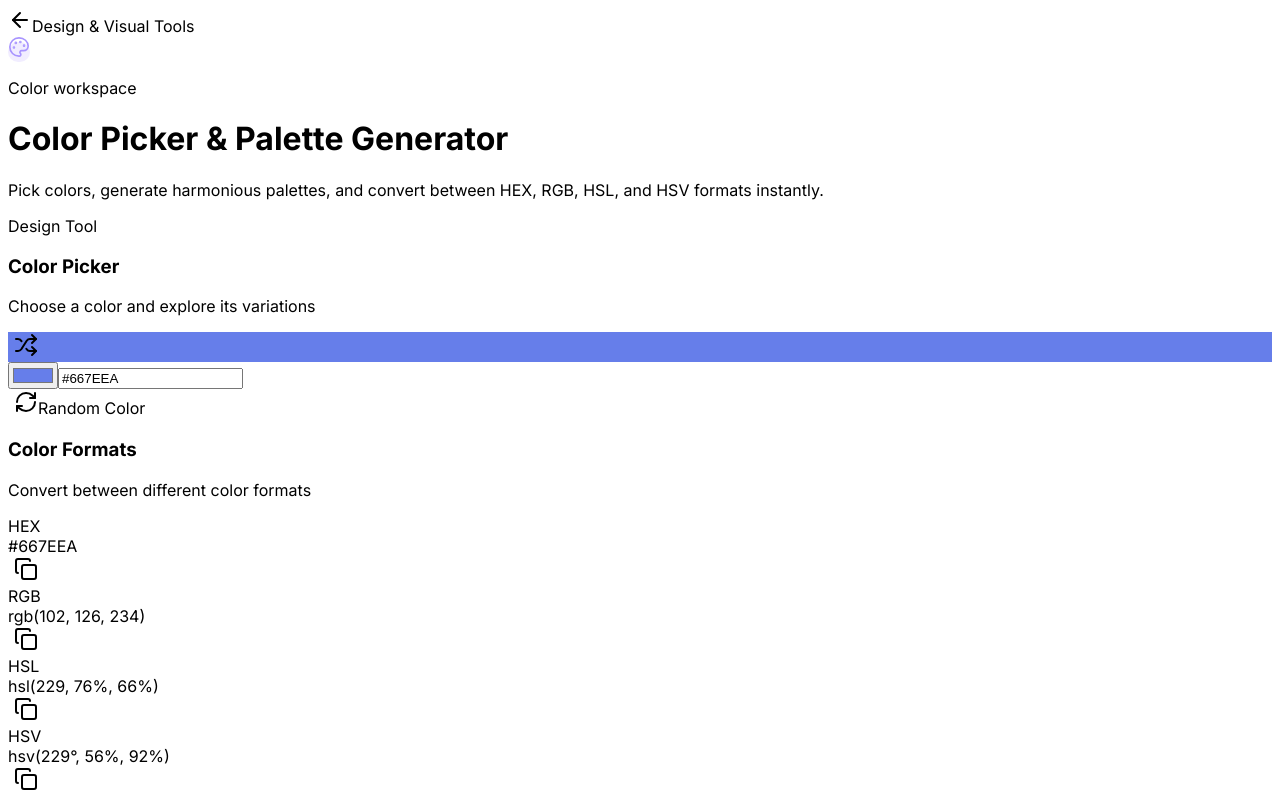
Test: Color Picker - Random Color Tests › should generate random color when button is clicked
// Click random button
Click the button "Random Color": (80, 404) left=8, top=389, right=151, bottom=419
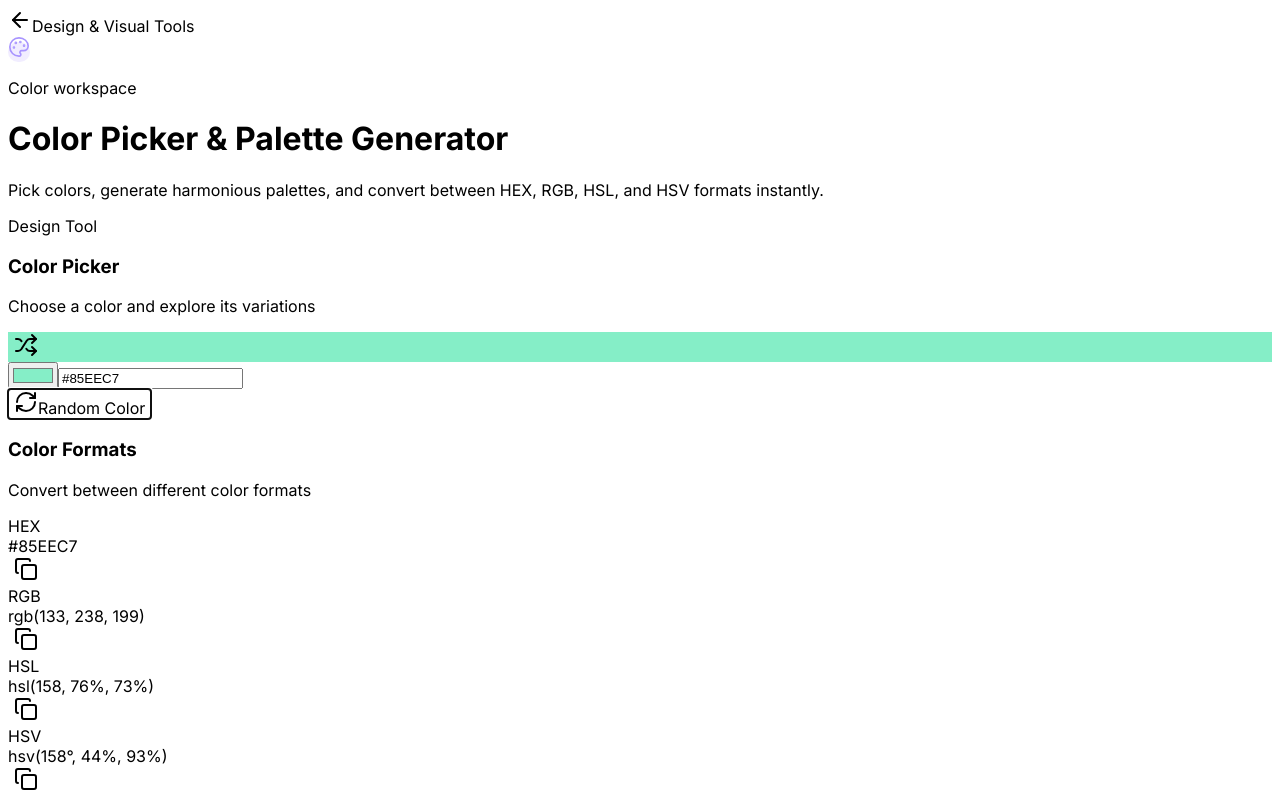
Now the field showing "#667EEA" does not hold "#667EEA", box left=58, top=368, right=243, bottom=389
